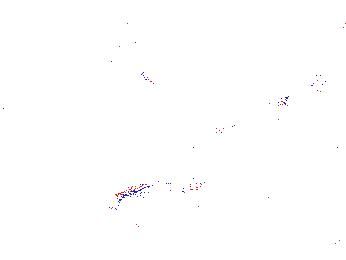glassfish: (177, 95, 293, 167), (101, 173, 208, 212)
red belly glassfish: (310, 61, 328, 93)
redtail glassfish: (103, 57, 156, 86), (115, 19, 152, 52)
